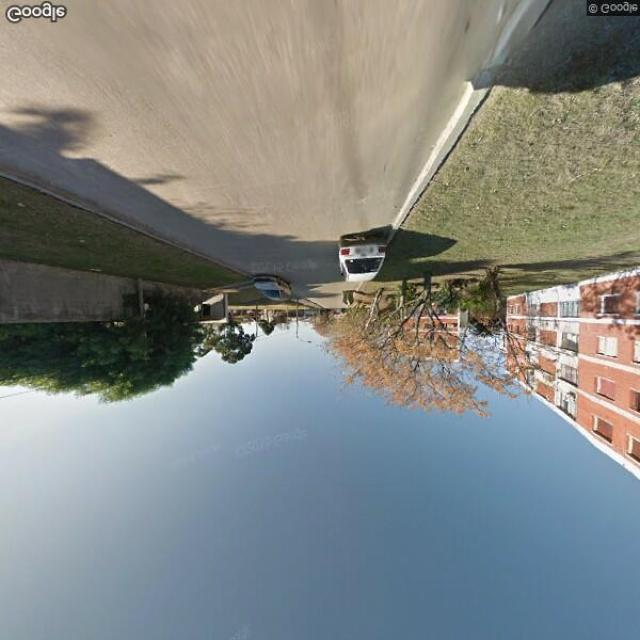garbage container: (339, 288, 362, 311)
